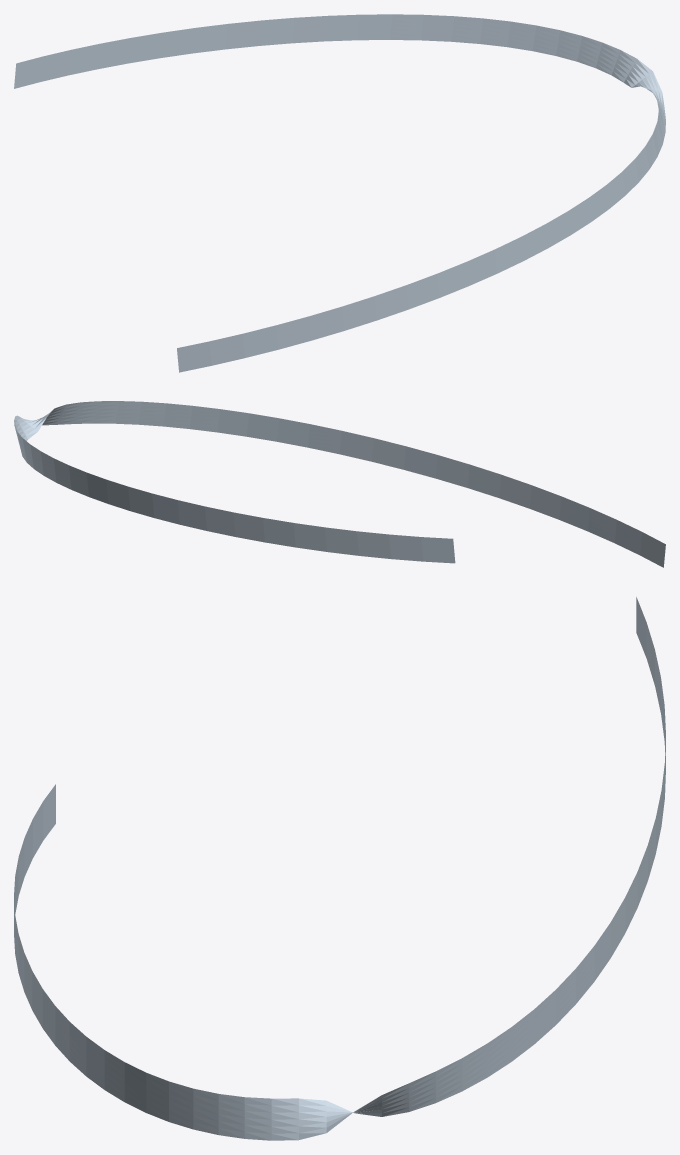
Rendered from 2084_WateryRebirth_State_OwnRebirthFlow_6.fbx.
3 renders of one model, top to bottom at view 1: azimuth 30°, elevation 25°; view 2: azimuth 150°, elevation 25°; view 3: azimuth 270°, elevation 25°, orthographic. The views are drawn at different scales.
Parts seen in each view (by area): view 1: PART_Hydro_OwnRebirthFlow_6; view 2: PART_Hydro_OwnRebirthFlow_6; view 3: PART_Hydro_OwnRebirthFlow_6.
Part boxes in pixels (x1=…): PART_Hydro_OwnRebirthFlow_6: x1=14, y1=14, x2=665, y2=372; PART_Hydro_OwnRebirthFlow_6: x1=14, y1=401, x2=665, y2=567; PART_Hydro_OwnRebirthFlow_6: x1=14, y1=597, x2=665, y2=1140.
Bounding box in the file's own units: 167 × 45.37 × 108.
